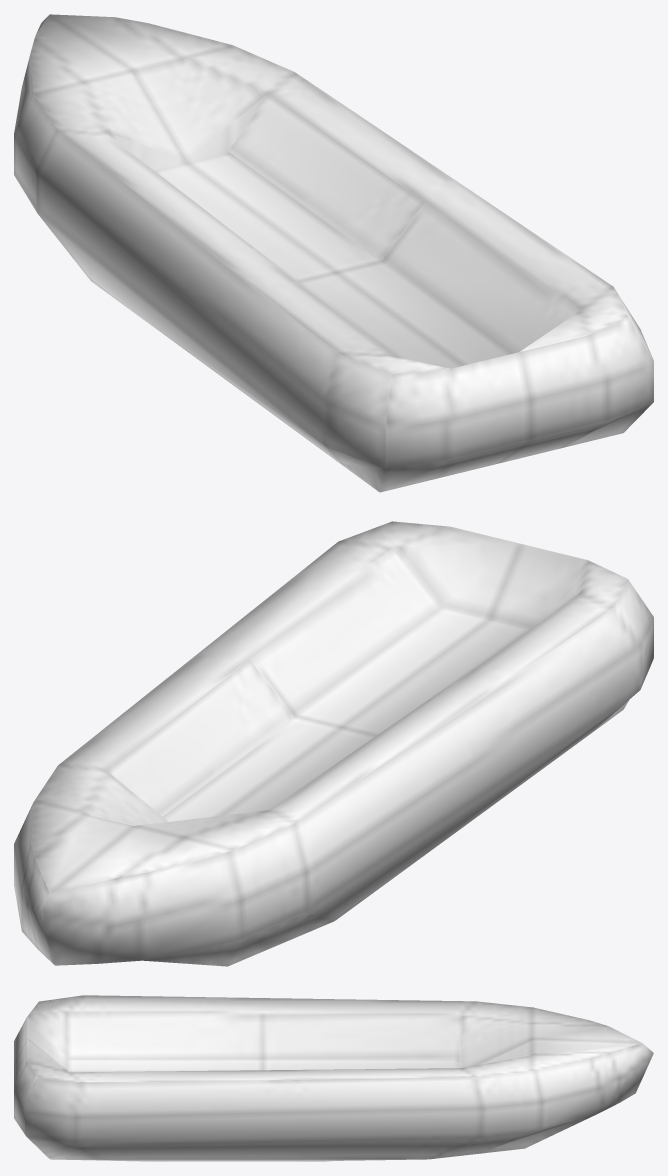
File: hull.obj
The picture shows the model from 3 angles, top to bottom: view 1: azimuth 30°, elevation 25°; view 2: azimuth 150°, elevation 25°; view 3: azimuth 270°, elevation 25°; orthographic projection. The views are drawn at different scales.
Parts seen in each view (by area): view 1: Cube_Cube.001; view 2: Cube_Cube.001; view 3: Cube_Cube.001.
Boxes of the visible parts, box(x1,y1,x2,y2) form: Cube_Cube.001: box(14, 14, 653, 492); Cube_Cube.001: box(14, 521, 653, 966); Cube_Cube.001: box(14, 995, 653, 1161).
Bounding box in the file's own units: 2 × 1.01 × 5.39.
Materials: 1 (1 with a texture image).
